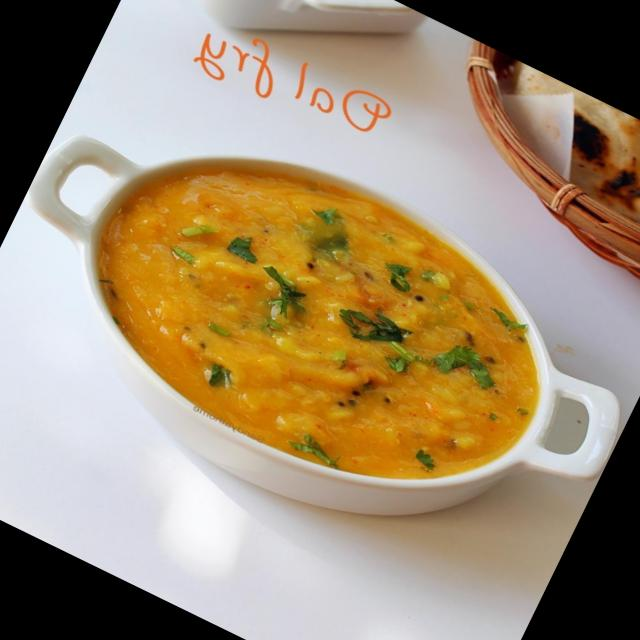dal: (41, 96, 576, 545)
roti: (486, 65, 640, 256)
